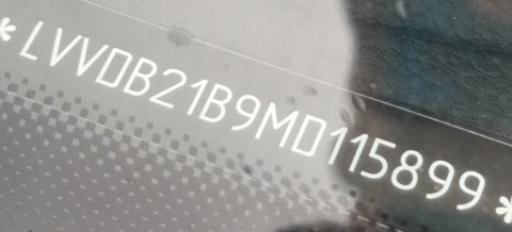letter: (254, 99, 298, 147), (358, 135, 396, 180), (148, 66, 188, 108), (94, 46, 134, 87), (290, 113, 326, 157), (196, 82, 232, 124), (388, 148, 424, 189), (72, 36, 108, 75), (122, 56, 158, 95), (48, 25, 82, 66), (424, 156, 456, 199), (454, 169, 486, 210), (230, 93, 262, 129), (326, 123, 350, 165), (347, 130, 369, 173), (19, 20, 43, 59), (185, 78, 209, 116)
